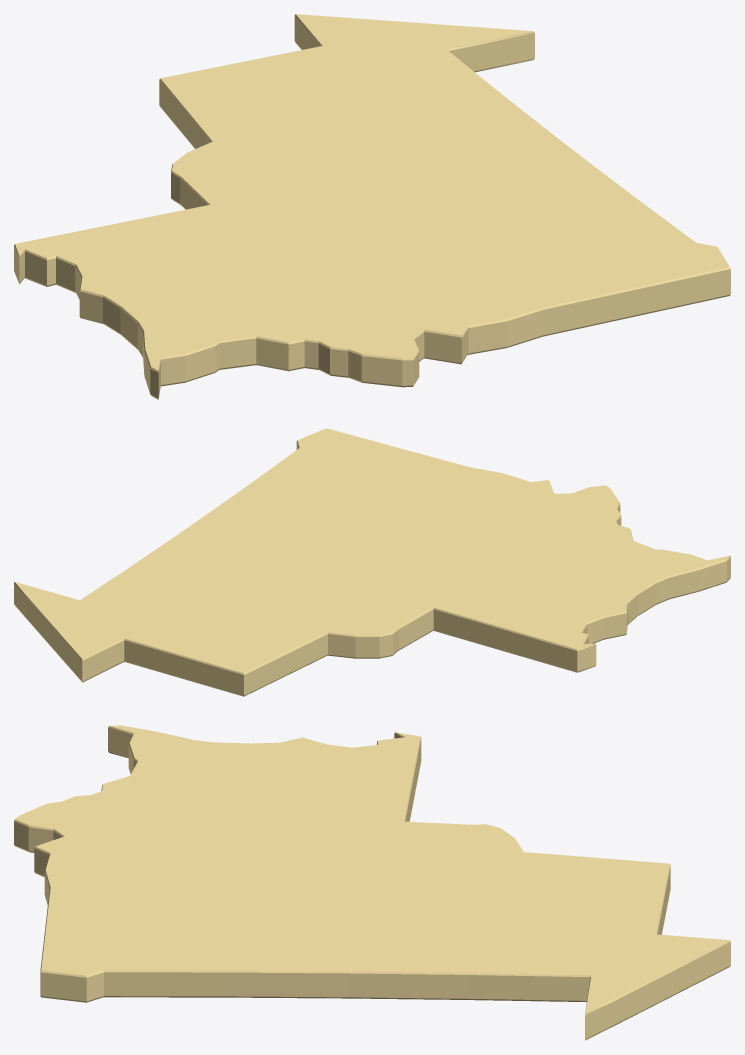
File: MRT.glb
The picture shows the model from 3 angles, top to bottom: view 1: azimuth 30°, elevation 25°; view 2: azimuth 150°, elevation 25°; view 3: azimuth 270°, elevation 25°; orthographic projection. The views are drawn at different scales.
Size of the model in its own units: 1.56 by 0.068 by 1.64.
